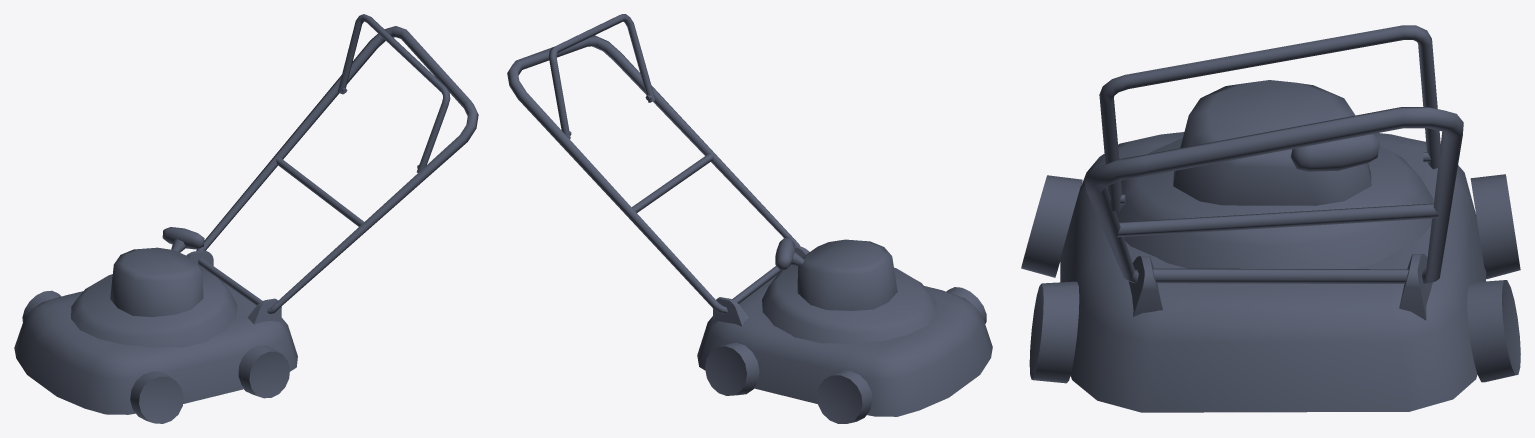
File: Lawnmover.FBX
The picture shows the model from 3 angles, left to right: view 1: azimuth 30°, elevation 25°; view 2: azimuth 150°, elevation 25°; view 3: azimuth 270°, elevation 25°; orthographic projection. The views are drawn at different scales.
Visible parts, largest first — view 1: Lawnmover; view 2: Lawnmover; view 3: Lawnmover.
Part boxes in pixels (x1,y1,x2,y2): Lawnmover: (14, 14, 478, 423); Lawnmover: (507, 14, 992, 423); Lawnmover: (1021, 25, 1520, 412).
Size of the model in its own units: 166 by 107 by 90.05.
